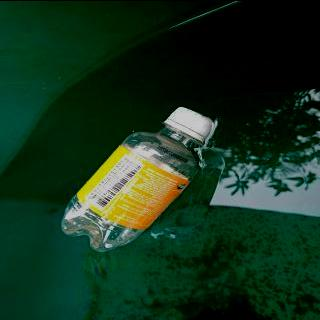bottle: (59, 104, 215, 253)
